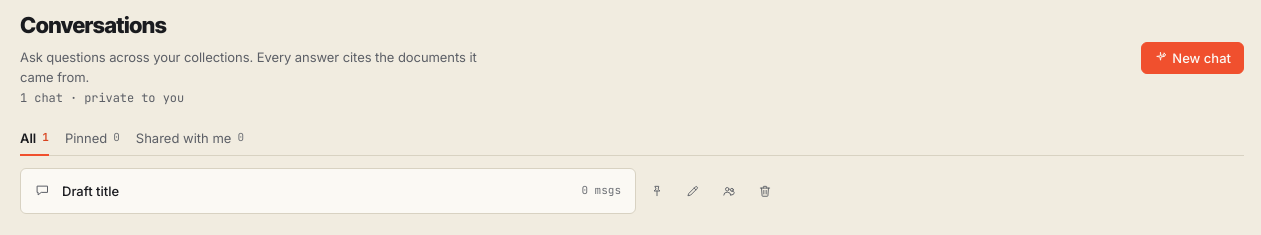
Test case: KbChatsPage › renames a chat inline via the pencil, updating the row (#357)
Click the button named "Rename Draft title" at {"x": 693, "y": 191}, box [678,176,708,206]
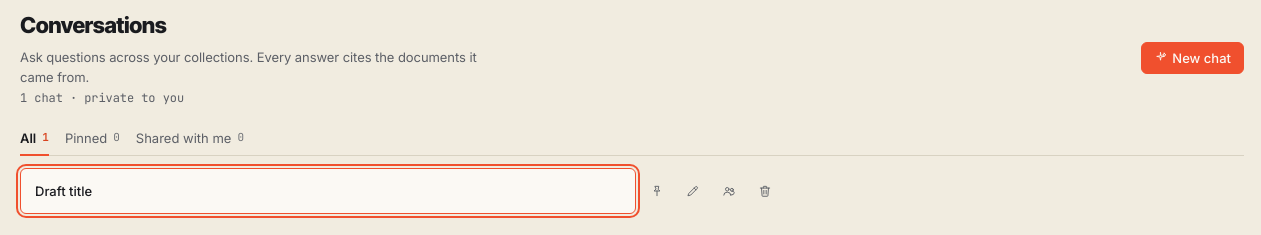
Replace the text in the field with "Final title" at {"x": 328, "y": 191}, box [20,168,636,214]
Then press Enter
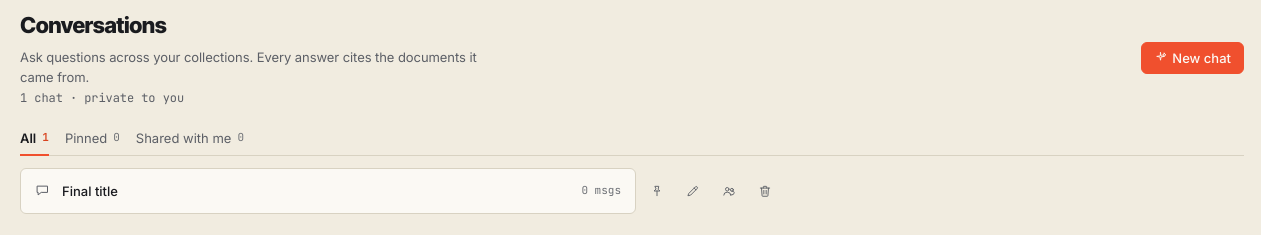
Result: the button "Final title 0 msgs" is shown at [20,168,636,214]
